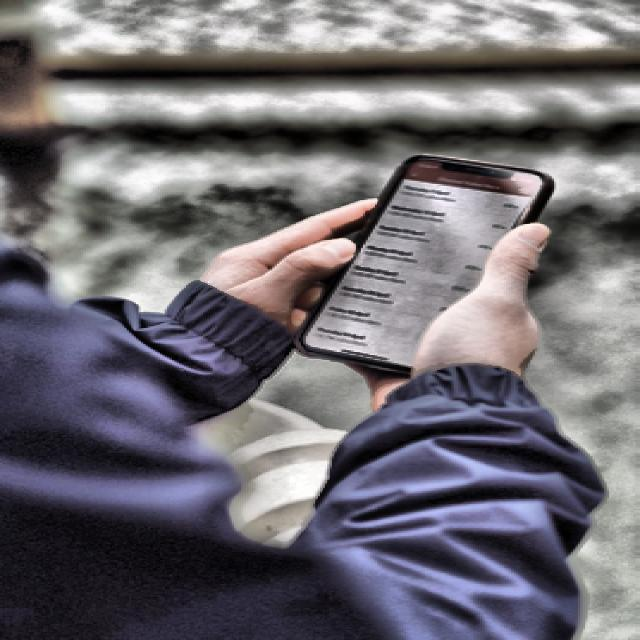Phone: (291, 153, 554, 374)
